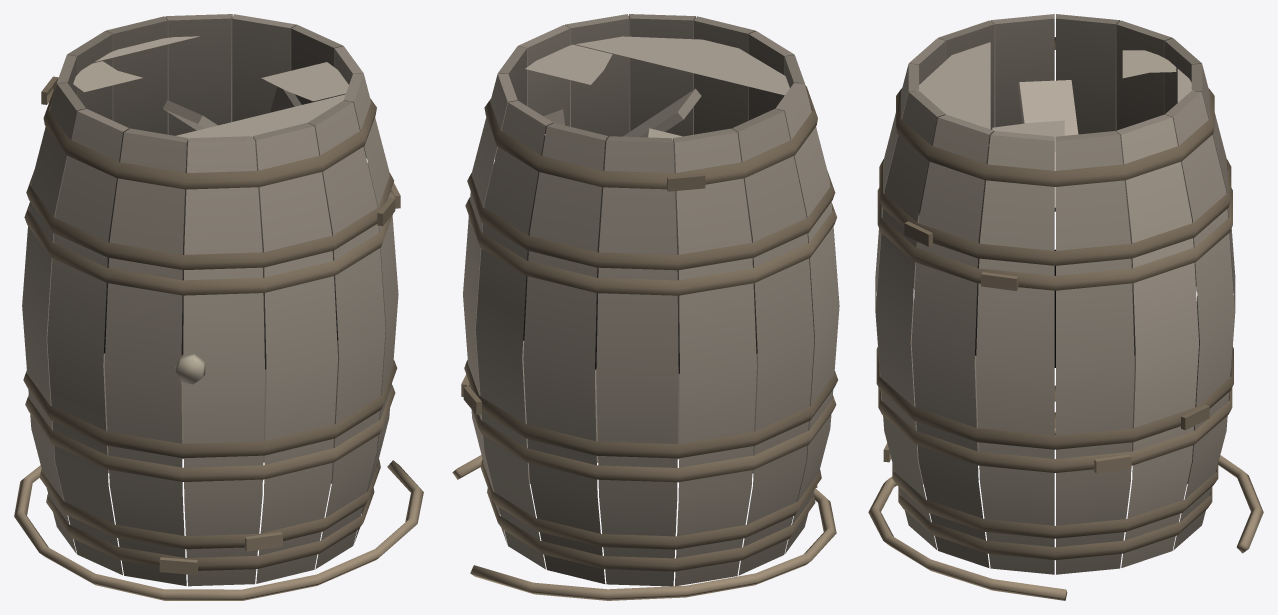
Rendered from prop_barrel_stove.glb.
3 renders of one model, left to right at view 1: azimuth 30°, elevation 25°; view 2: azimuth 150°, elevation 25°; view 3: azimuth 270°, elevation 25°, orthographic. The views are drawn at different scales.
Visible parts, largest first — view 1: BarrelStoveSoft, BarrelStove; view 2: BarrelStoveSoft, BarrelStove; view 3: BarrelStoveSoft, BarrelStove.
Part boxes in pixels (x1,y1,x2,y2): BarrelStoveSoft: (14,14,423,600); BarrelStove: (41,14,400,574); BarrelStoveSoft: (452,15,839,600); BarrelStove: (461,14,817,488); BarrelStoveSoft: (868,20,1263,600); BarrelStove: (883,14,1209,473).
Size of the model in its own units: 0.7638 by 0.912 by 0.744.
